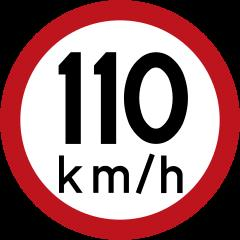Speed limit -40-: (53, 49, 191, 147)
